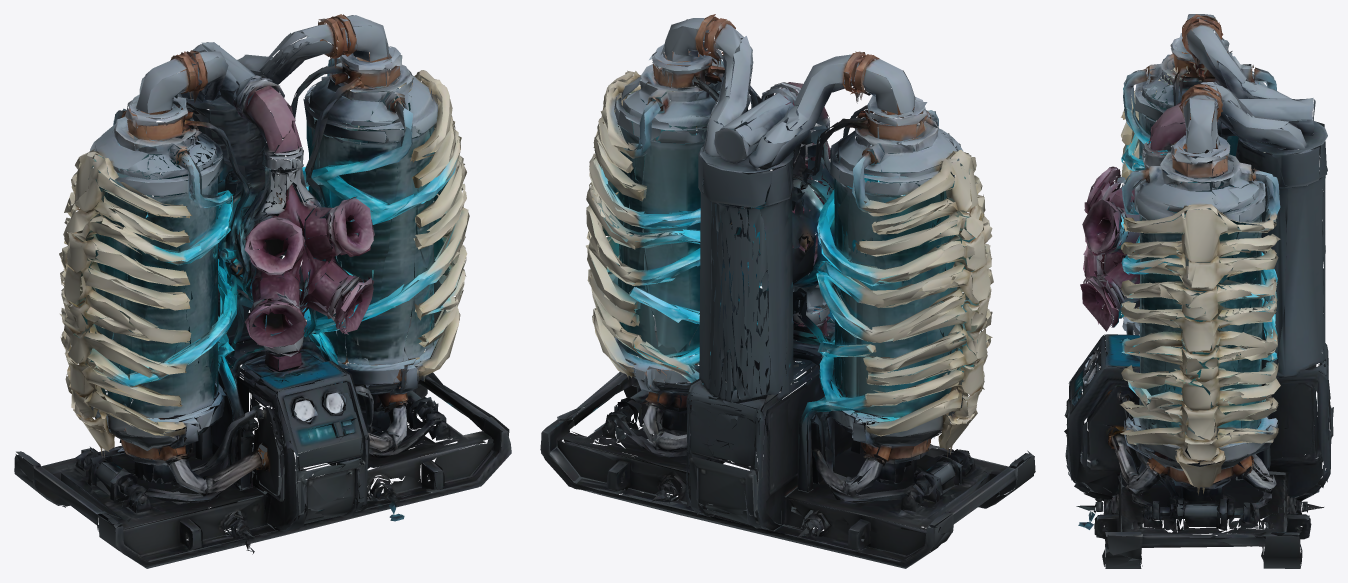
Rendered from ship_module_life_support_core.glb.
3 views of the same model, side by side, from view 1: azimuth 30°, elevation 25°; view 2: azimuth 150°, elevation 25°; view 3: azimuth 270°, elevation 25° (orthographic). The views are drawn at different scales.
Parts seen in each view (by area): view 1: node_0; view 2: node_0; view 3: node_0.
Boxes of the visible parts, bbox=[...] form: node_0: bbox=[14, 14, 511, 568]; node_0: bbox=[540, 14, 1035, 568]; node_0: bbox=[1064, 14, 1333, 568].
Bounding box in the file's own units: 0.8267 × 0.9116 × 0.5053.
1 material, 1 textured.
